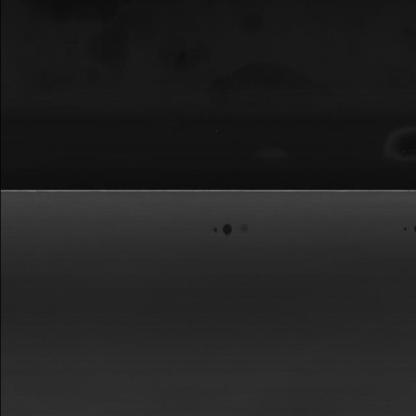oil_spot: (203, 214, 255, 240)
